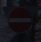No entry: (5, 5, 36, 37)
